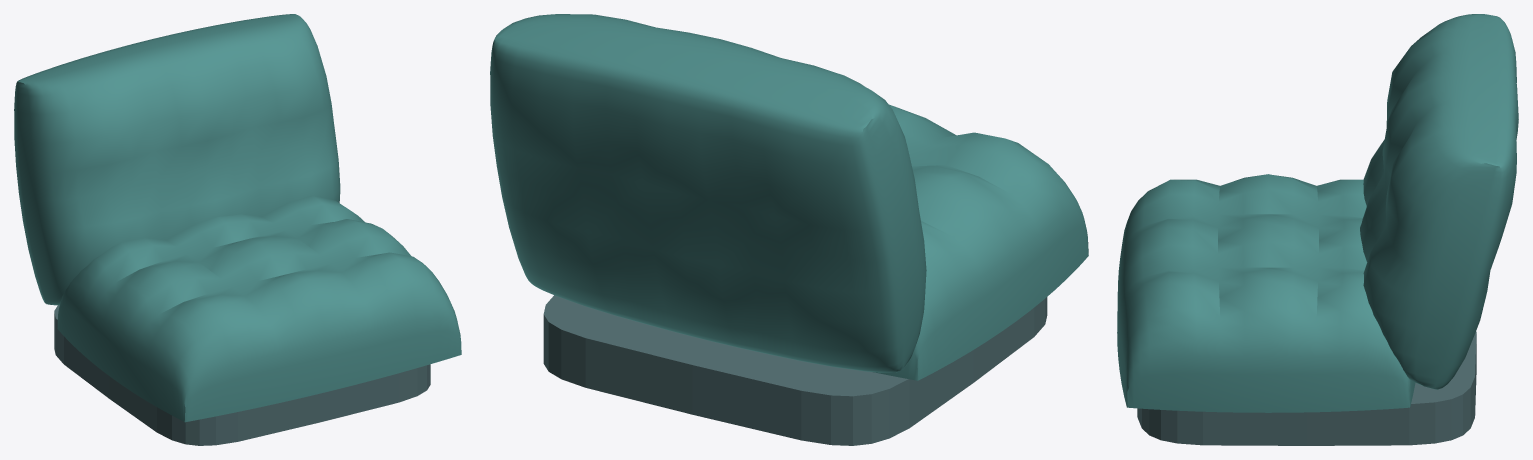
File: KC32__AD_Int_Sofa_Mod_Seat.glb
The picture shows the model from 3 angles, left to right: view 1: azimuth 30°, elevation 25°; view 2: azimuth 150°, elevation 25°; view 3: azimuth 270°, elevation 25°; orthographic projection. The views are drawn at different scales.
Parts seen in each view (by area): view 1: KC32_CORPS__AD_Int_Sofa_Mod_Seat; view 2: KC32_CORPS__AD_Int_Sofa_Mod_Seat; view 3: KC32_CORPS__AD_Int_Sofa_Mod_Seat.
Boxes of the visible parts, x1,y1,x2,y2 form: KC32_CORPS__AD_Int_Sofa_Mod_Seat: (14, 14, 461, 445); KC32_CORPS__AD_Int_Sofa_Mod_Seat: (490, 14, 1088, 445); KC32_CORPS__AD_Int_Sofa_Mod_Seat: (1117, 14, 1518, 445).
Size of the model in its own units: 1 by 0.8705 by 1.06.
